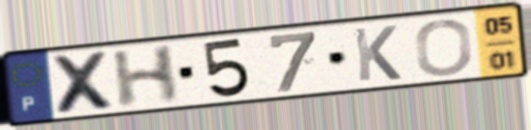5: (200, 36, 252, 100)
7: (266, 29, 319, 94)
H: (109, 42, 181, 111)
K: (350, 23, 404, 84)
O: (413, 17, 475, 78)
X: (47, 48, 122, 116)
